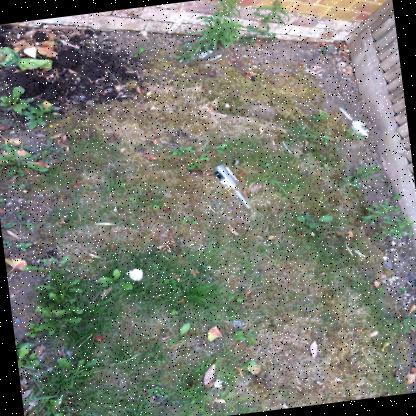Cigarette: (257, 46, 261, 51), (120, 95, 127, 97)
Glass bottle: (211, 163, 252, 209), (337, 106, 372, 138), (180, 47, 224, 66)
Plastic film: (234, 320, 245, 327)
Unlabeled litter: (126, 268, 143, 280), (282, 140, 292, 154), (57, 394, 62, 406), (56, 405, 60, 412)
